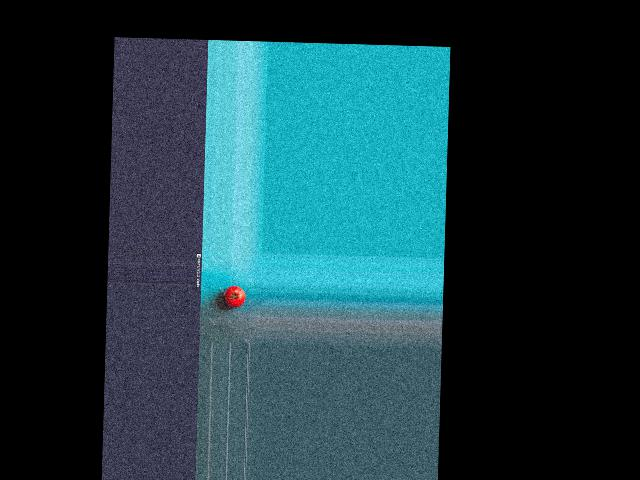tomato: (223, 286, 245, 307)
